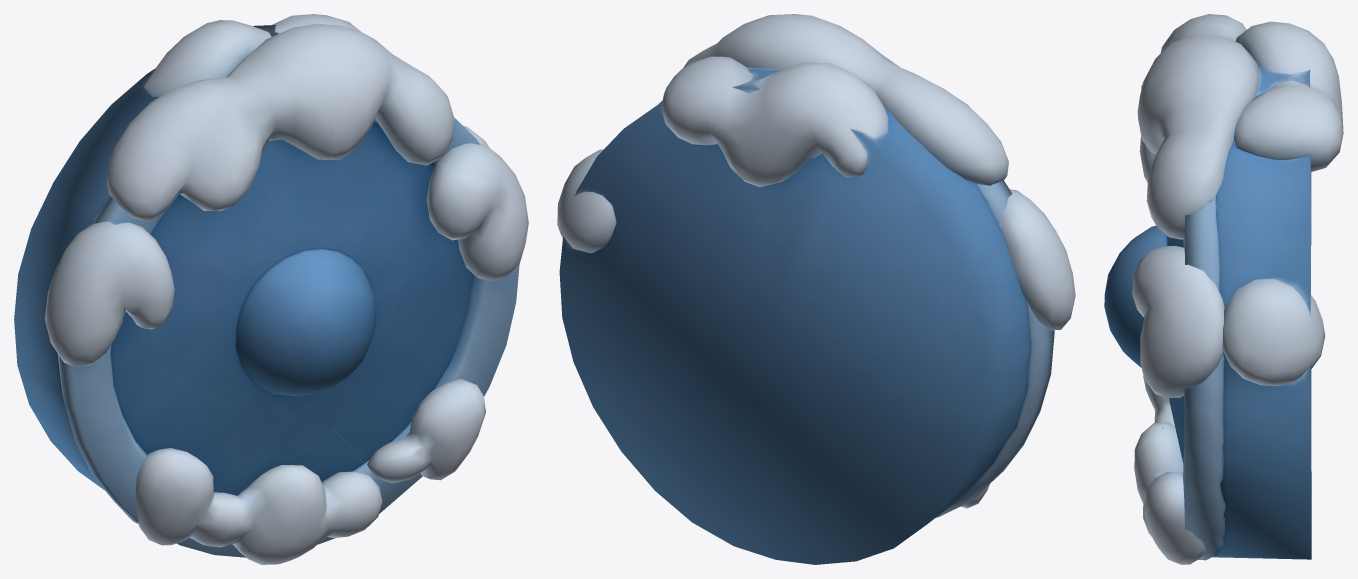
The model's file is rime.glb.
3 views of the same model, side by side, from view 1: azimuth 30°, elevation 25°; view 2: azimuth 150°, elevation 25°; view 3: azimuth 270°, elevation 25° (orthographic). The views are drawn at different scales.
Parts seen in each view (by area): view 1: geometry_0; view 2: geometry_0; view 3: geometry_0.
Boxes of the visible parts, left/top/right/bottom form: geometry_0: left=14, top=14, right=528, bottom=564; geometry_0: left=557, top=14, right=1075, bottom=564; geometry_0: left=1104, top=14, right=1343, bottom=564.
Size of the model in its own units: 0.9912 by 1 by 0.4295.
1 material, 1 textured.
